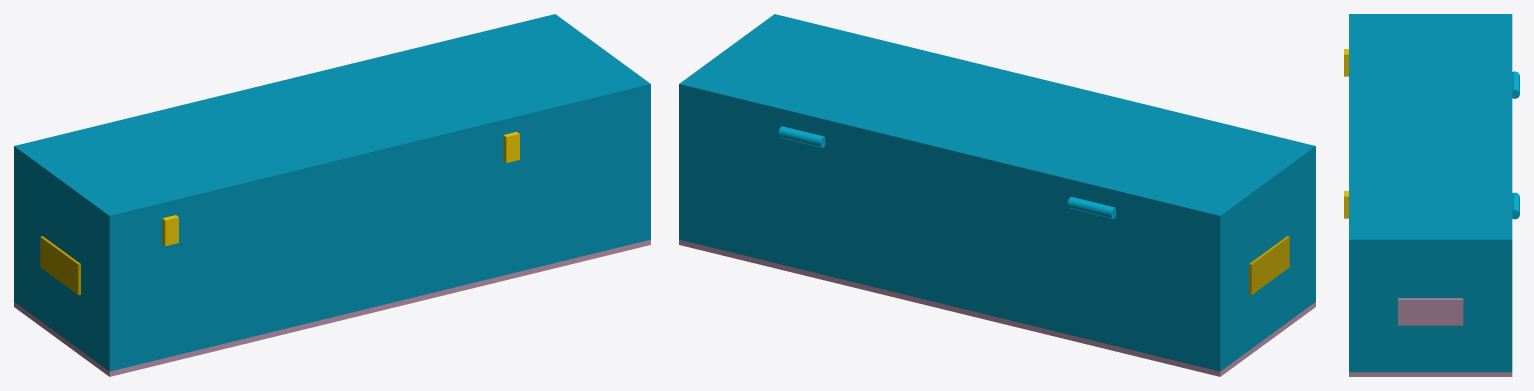
File: c204_A_ferme.glb
3 views of the same model, side by side, from view 1: azimuth 30°, elevation 25°; view 2: azimuth 150°, elevation 25°; view 3: azimuth 270°, elevation 25° (orthographic). The views are drawn at different scales.
Visible parts, largest first — view 1: A-002 [DOC] Corps — paroi avant, A-012 [DOC] Couvercle — dessus, A-004 [DOC] Corps — paroi d'extrémité gauche, A-013 [DOC] Couvercle — rebord avant, A-001 [HYP] Corps — fond, A-015 [DOC] Couvercle — rebord gauche, A-008 [DÉD] Poignée encastrée d'extrémité gauche, A-003 [DOC] Corps — paroi arrière; view 2: A-003 [DOC] Corps — paroi arrière, A-012 [DOC] Couvercle — dessus, A-004 [DOC] Corps — paroi d'extrémité gauche, A-014 [DOC] Couvercle — rebord arrière, A-001 [HYP] Corps — fond, A-015 [DOC] Couvercle — rebord gauche, A-008 [DÉD] Poignée encastrée d'extrémité gauche, A-002 [DOC] Corps — paroi avant, A-010 [DOC] Charnière n°1, A-011 [DOC] Charnière n°2; view 3: A-012 [DOC] Couvercle — dessus, A-005 [DOC] Corps — paroi d'extrémité droite, A-016 [DOC] Couvercle — rebord droit, A-009 [HYP] Poignée encastrée d'extrémité droite, A-002 [DOC] Corps — paroi avant, A-003 [DOC] Corps — paroi arrière, A-001 [HYP] Corps — fond, A-010 [DOC] Charnière n°1, A-011 [DOC] Charnière n°2.
Boxes of the visible parts, x1=… form: A-002 [DOC] Corps — paroi avant: x1=104, y1=105, x2=650, y2=371; A-012 [DOC] Couvercle — dessus: x1=14, y1=14, x2=650, y2=219; A-004 [DOC] Corps — paroi d'extrémité gauche: x1=19, y1=172, x2=104, y2=367; A-013 [DOC] Couvercle — rebord avant: x1=104, y1=88, x2=650, y2=237; A-001 [HYP] Corps — fond: x1=14, y1=239, x2=650, y2=376; A-015 [DOC] Couvercle — rebord gauche: x1=19, y1=154, x2=104, y2=233; A-008 [DÉD] Poignée encastrée d'extrémité gauche: x1=40, y1=236, x2=80, y2=295; A-003 [DOC] Corps — paroi arrière: x1=14, y1=168, x2=19, y2=305; A-003 [DOC] Corps — paroi arrière: x1=679, y1=105, x2=1225, y2=371; A-012 [DOC] Couvercle — dessus: x1=679, y1=14, x2=1315, y2=219; A-004 [DOC] Corps — paroi d'extrémité gauche: x1=1225, y1=172, x2=1310, y2=367; A-014 [DOC] Couvercle — rebord arrière: x1=679, y1=88, x2=1225, y2=237; A-001 [HYP] Corps — fond: x1=679, y1=239, x2=1315, y2=376; A-015 [DOC] Couvercle — rebord gauche: x1=1225, y1=154, x2=1310, y2=233; A-008 [DÉD] Poignée encastrée d'extrémité gauche: x1=1249, y1=236, x2=1289, y2=295; A-002 [DOC] Corps — paroi avant: x1=1310, y1=168, x2=1315, y2=305; A-010 [DOC] Charnière n°1: x1=1067, y1=196, x2=1115, y2=218; A-011 [DOC] Charnière n°2: x1=778, y1=126, x2=825, y2=147; A-012 [DOC] Couvercle — dessus: x1=1349, y1=14, x2=1512, y2=242; A-005 [DOC] Corps — paroi d'extrémité droite: x1=1358, y1=258, x2=1502, y2=372; A-016 [DOC] Couvercle — rebord droit: x1=1358, y1=243, x2=1502, y2=257; A-009 [HYP] Poignée encastrée d'extrémité droite: x1=1398, y1=298, x2=1463, y2=325; A-002 [DOC] Corps — paroi avant: x1=1349, y1=258, x2=1358, y2=372; A-003 [DOC] Corps — paroi arrière: x1=1503, y1=258, x2=1512, y2=372; A-001 [HYP] Corps — fond: x1=1349, y1=372, x2=1512, y2=376; A-010 [DOC] Charnière n°1: x1=1512, y1=71, x2=1519, y2=98; A-011 [DOC] Charnière n°2: x1=1512, y1=192, x2=1519, y2=219.
Bounding box in the file's own units: 0.858 × 0.2416 × 0.2799.
